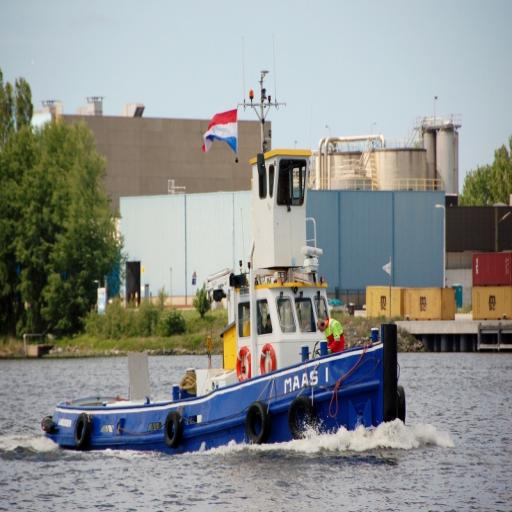tugboat: (38, 147, 413, 466)
